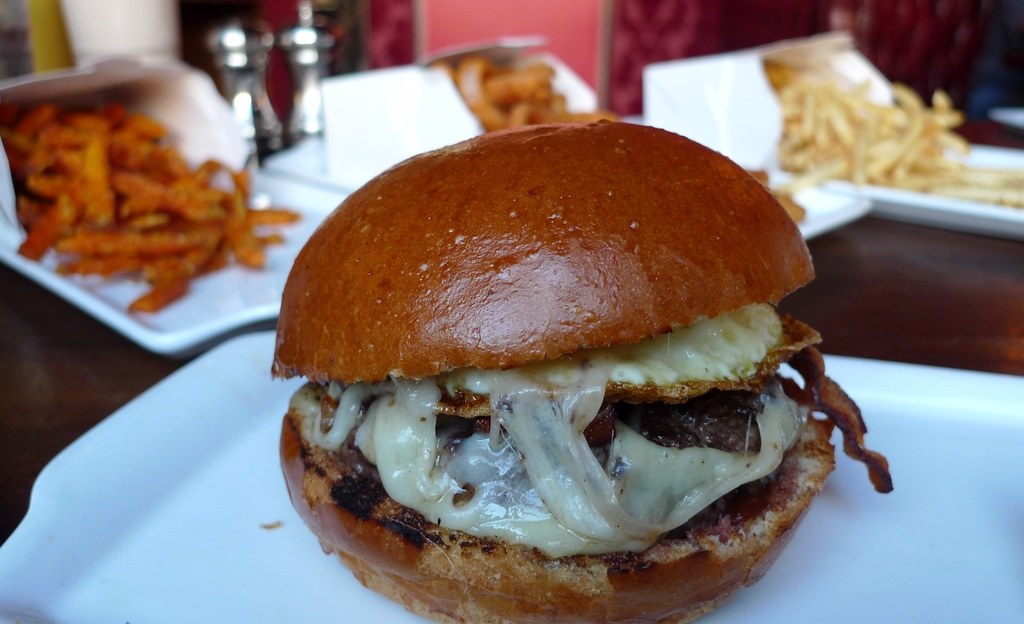French fries: (13, 67, 258, 308), (769, 54, 1023, 204)
